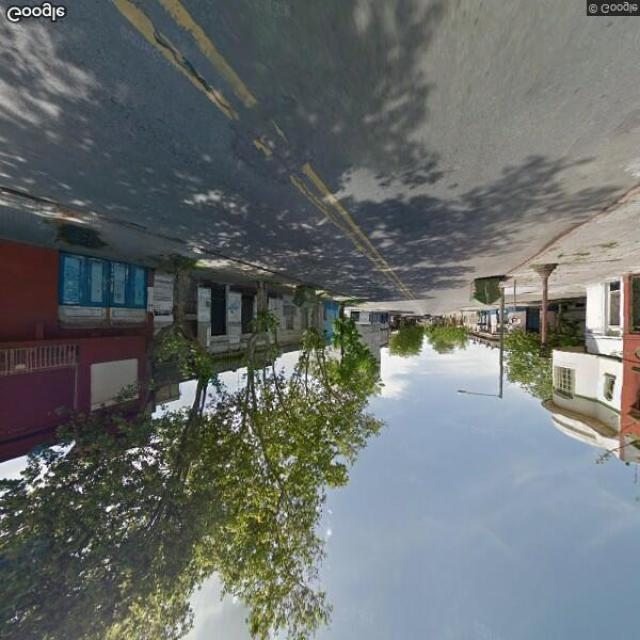garbage container: (462, 273, 508, 313)
